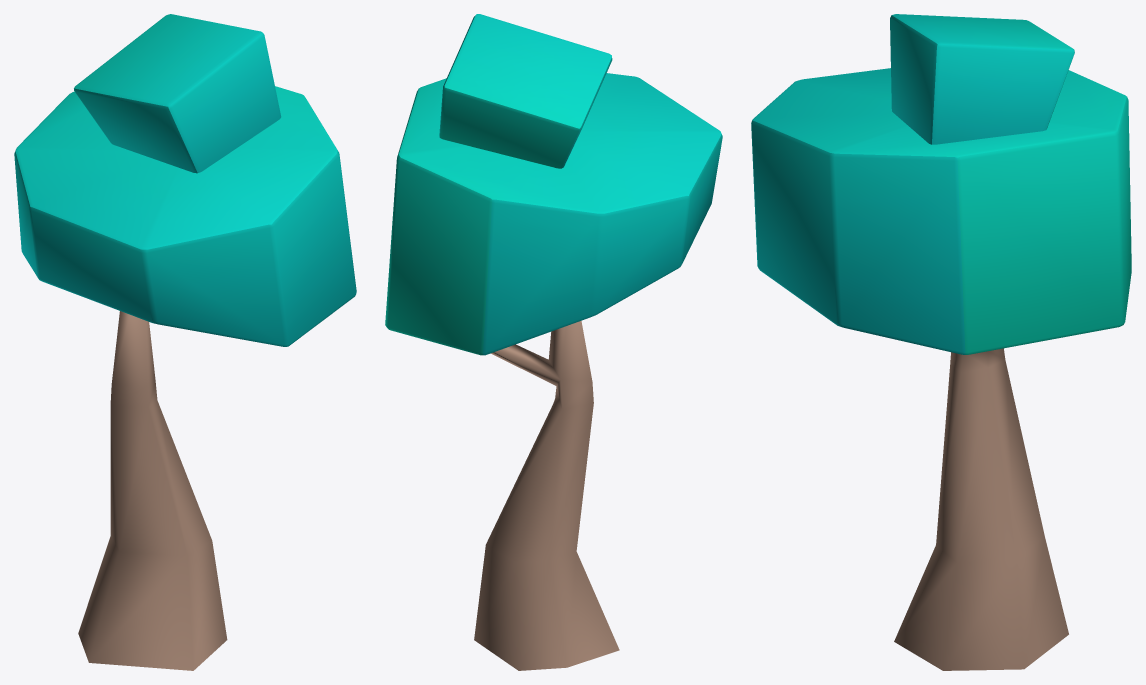
The model's file is Three2.fbx.
3 renders of one model, left to right at view 1: azimuth 30°, elevation 25°; view 2: azimuth 150°, elevation 25°; view 3: azimuth 270°, elevation 25°, orthographic. The views are drawn at different scales.
Parts seen in each view (by area): view 1: Three2; view 2: Three2; view 3: Three2.
Boxes of the visible parts, x1,y1,x2,y2 form: Three2: [14, 14, 356, 670]; Three2: [385, 14, 722, 670]; Three2: [751, 14, 1131, 670].
Size of the model in its own units: 0.8362 by 1.67 by 0.8917.
